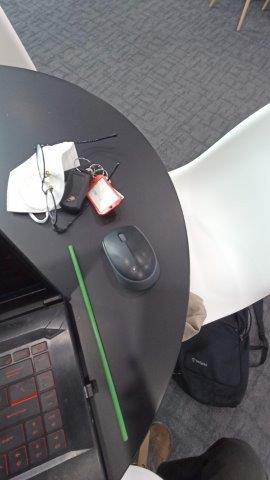sedotan: (71, 248, 127, 441)
